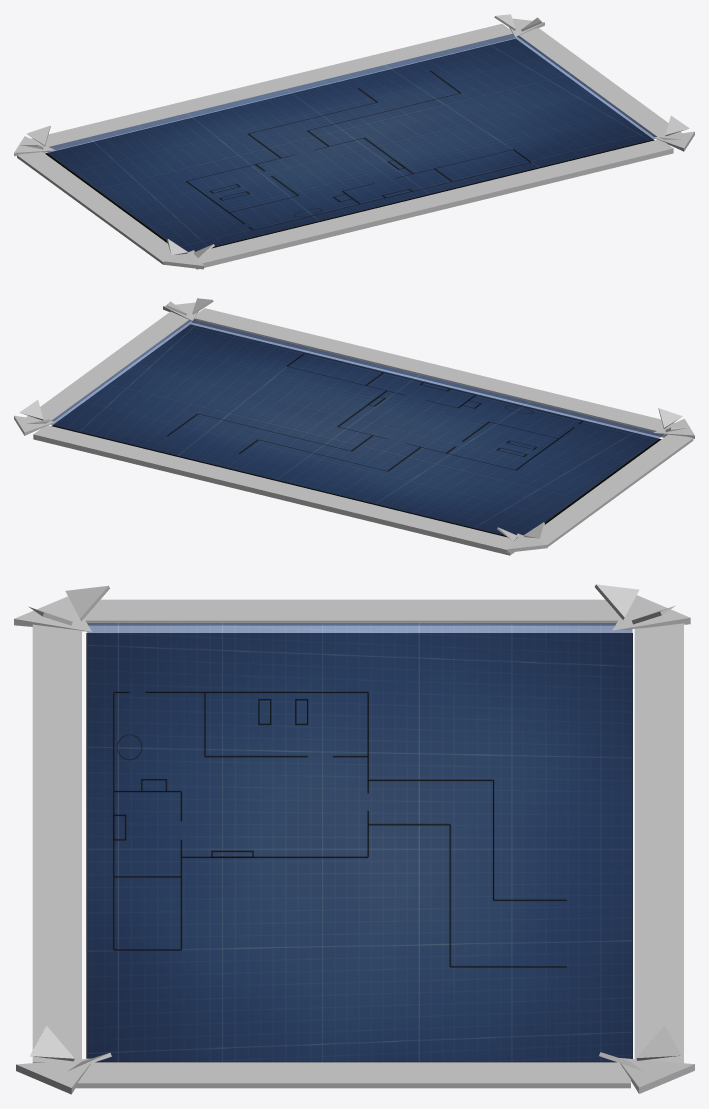
File: ramka.FBX
The picture shows the model from 3 angles, top to bottom: view 1: azimuth 30°, elevation 25°; view 2: azimuth 150°, elevation 25°; view 3: azimuth 270°, elevation 25°; orthographic projection. The views are drawn at different scales.
Visible parts, largest first — view 1: Plane001, Plane002, Box004, Box005, Box002, Box003, Pyramid011; view 2: Plane001, Plane002, Box005, Box004, Box002, Box003, Pyramid001; view 3: Plane001, Plane002, Box005, Box004, Box003, Box002, Pyramid005, Pyramid008, Pyramid001, Pyramid011, Pyramid007, Pyramid003 (+2 smaller).
Part boxes in pixels (left/top/right/bottom): Plane001: left=46, top=34, right=656, bottom=251; Plane002: left=45, top=39, right=654, bottom=251; Box004: left=196, top=139, right=673, bottom=269; Box005: left=31, top=24, right=514, bottom=152; Box002: left=17, top=152, right=181, bottom=264; Box003: left=517, top=28, right=681, bottom=136; Pyramid011: left=164, top=250, right=203, bottom=269; Plane001: left=50, top=319, right=664, bottom=535; Plane002: left=52, top=324, right=661, bottom=537; Box005: left=33, top=425, right=514, bottom=555; Box004: left=192, top=308, right=674, bottom=437; Box002: left=530, top=434, right=693, bottom=546; Box003: left=26, top=311, right=190, bottom=425; Pyramid001: left=507, top=533, right=547, bottom=552; Plane001: left=87, top=623, right=632, bottom=1061; Plane002: left=86, top=633, right=632, bottom=1062; Box005: left=634, top=623, right=683, bottom=1063; Box004: left=32, top=624, right=81, bottom=1062; Box003: left=76, top=1062, right=630, bottom=1088; Box002: left=84, top=599, right=620, bottom=625; Pyramid005: left=620, top=1058, right=694, bottom=1093; Pyramid008: left=16, top=1058, right=91, bottom=1094; Pyramid001: left=612, top=595, right=690, bottom=630; Pyramid011: left=14, top=596, right=91, bottom=631; Pyramid007: left=30, top=1025, right=74, bottom=1061; Pyramid003: left=595, top=584, right=639, bottom=619.
Size of the model in its own units: 103 by 3.63 by 60.16.
